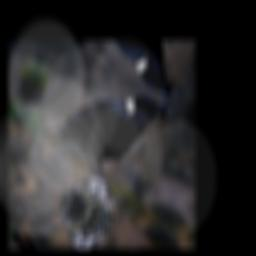Crow: (30, 50, 171, 214)
